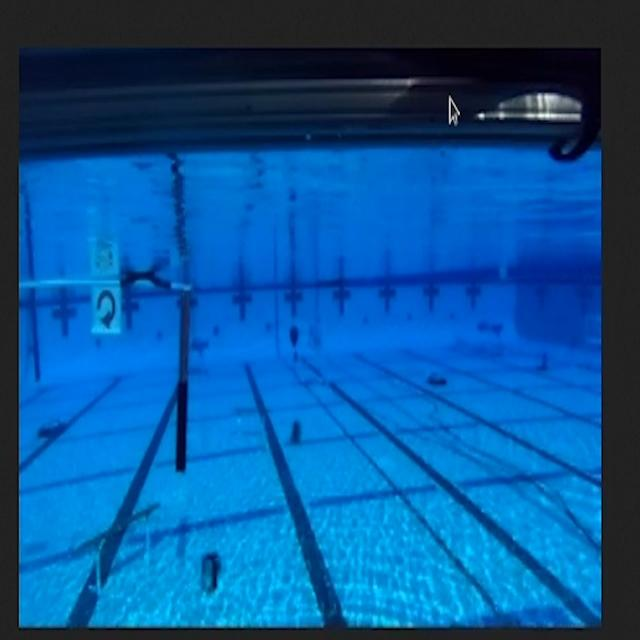Gate: (18, 256, 197, 485)
Path: (67, 492, 166, 604)
